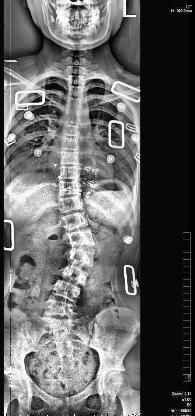Vertebrae: (44, 297, 80, 320), (52, 279, 84, 301), (60, 265, 90, 285), (67, 248, 95, 268), (59, 212, 87, 230), (66, 231, 96, 247), (57, 198, 84, 214), (58, 182, 82, 196), (58, 166, 80, 180), (60, 152, 80, 166), (64, 108, 80, 124), (63, 122, 79, 138), (62, 137, 78, 151), (68, 85, 84, 99), (66, 97, 81, 111)
